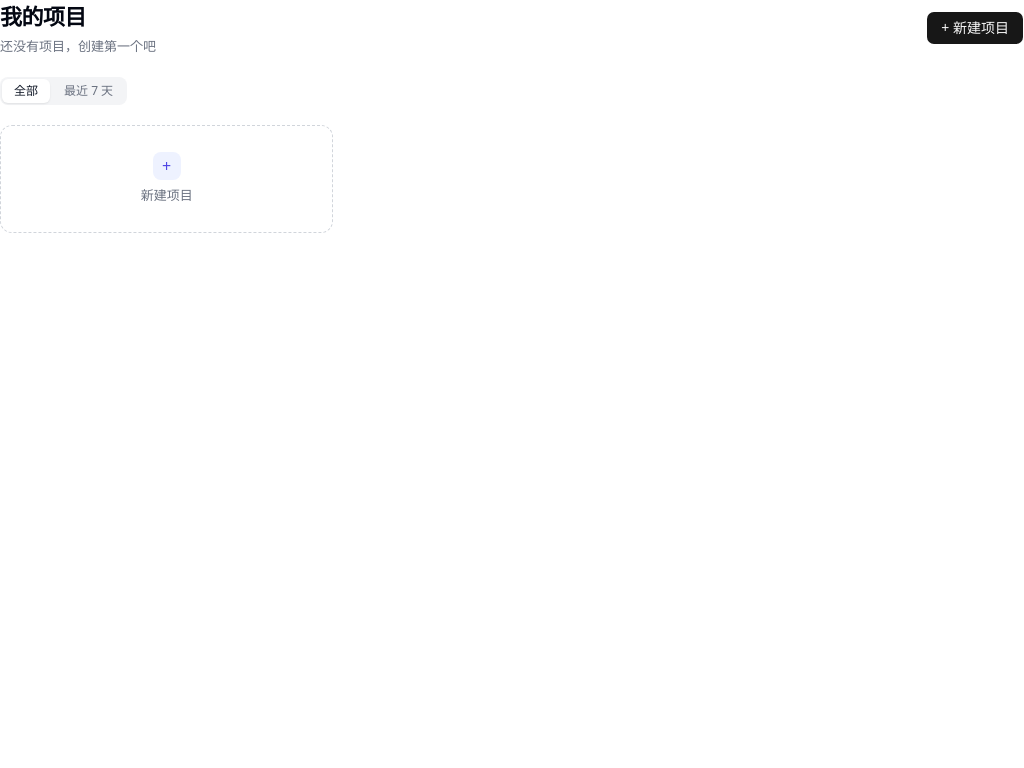
Test case: ProjectList › UI-PL-04c: create button enabled after typing name
Click the button "+ 新建项目" in the row of "还没有项目，创建第一个吧" at (975,28), box [926,11,1023,45]
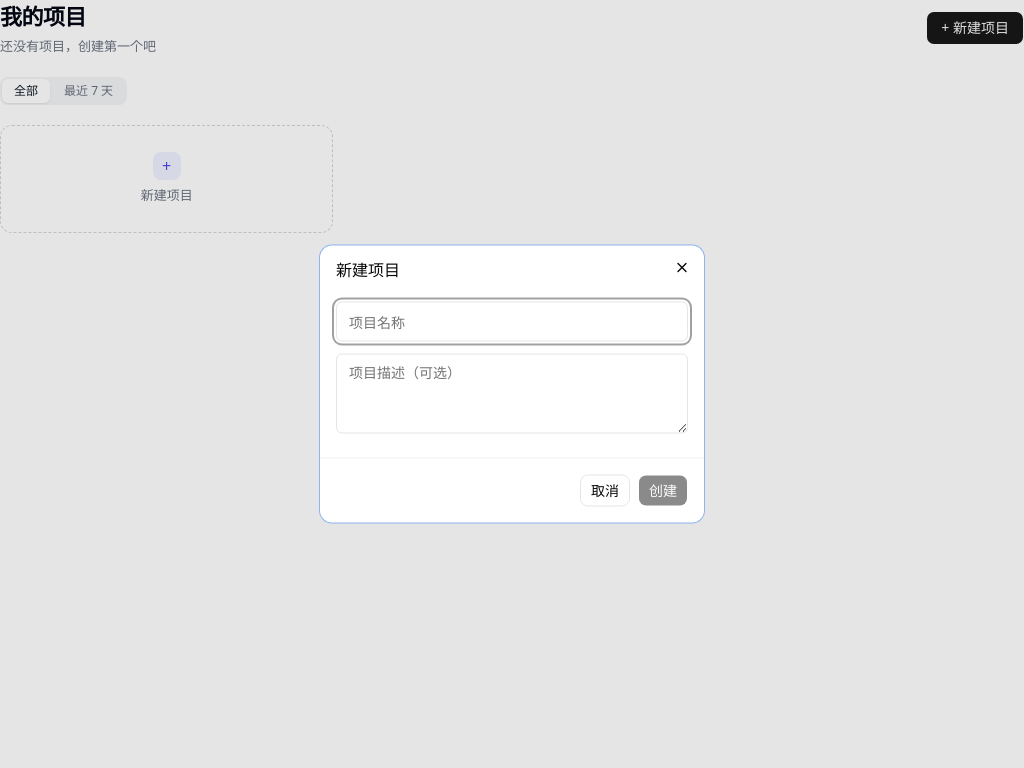
Type "My New App" into the field with placeholder "项目名称" at (512,322), box [336,302,688,342]
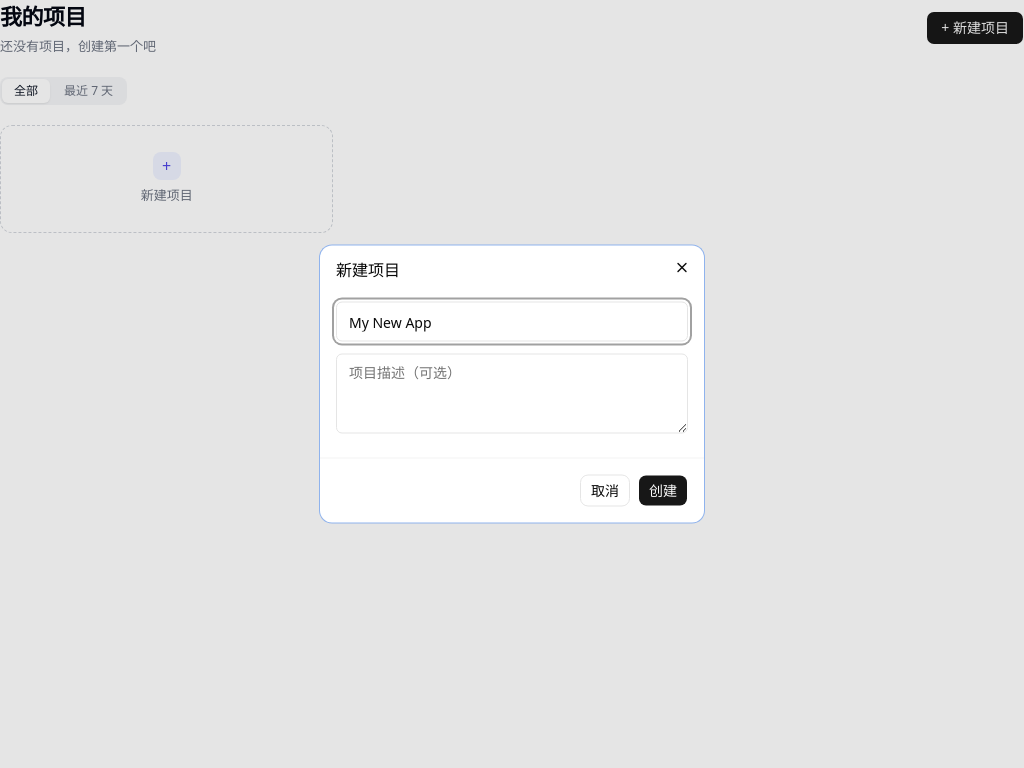
Expected: the button "创建" is enabled, [638,474,688,506]
